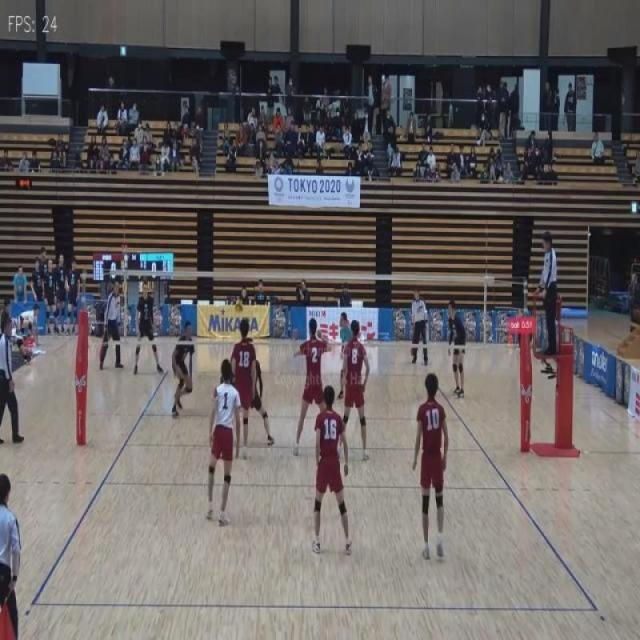volleyball: (234, 298, 243, 314)
